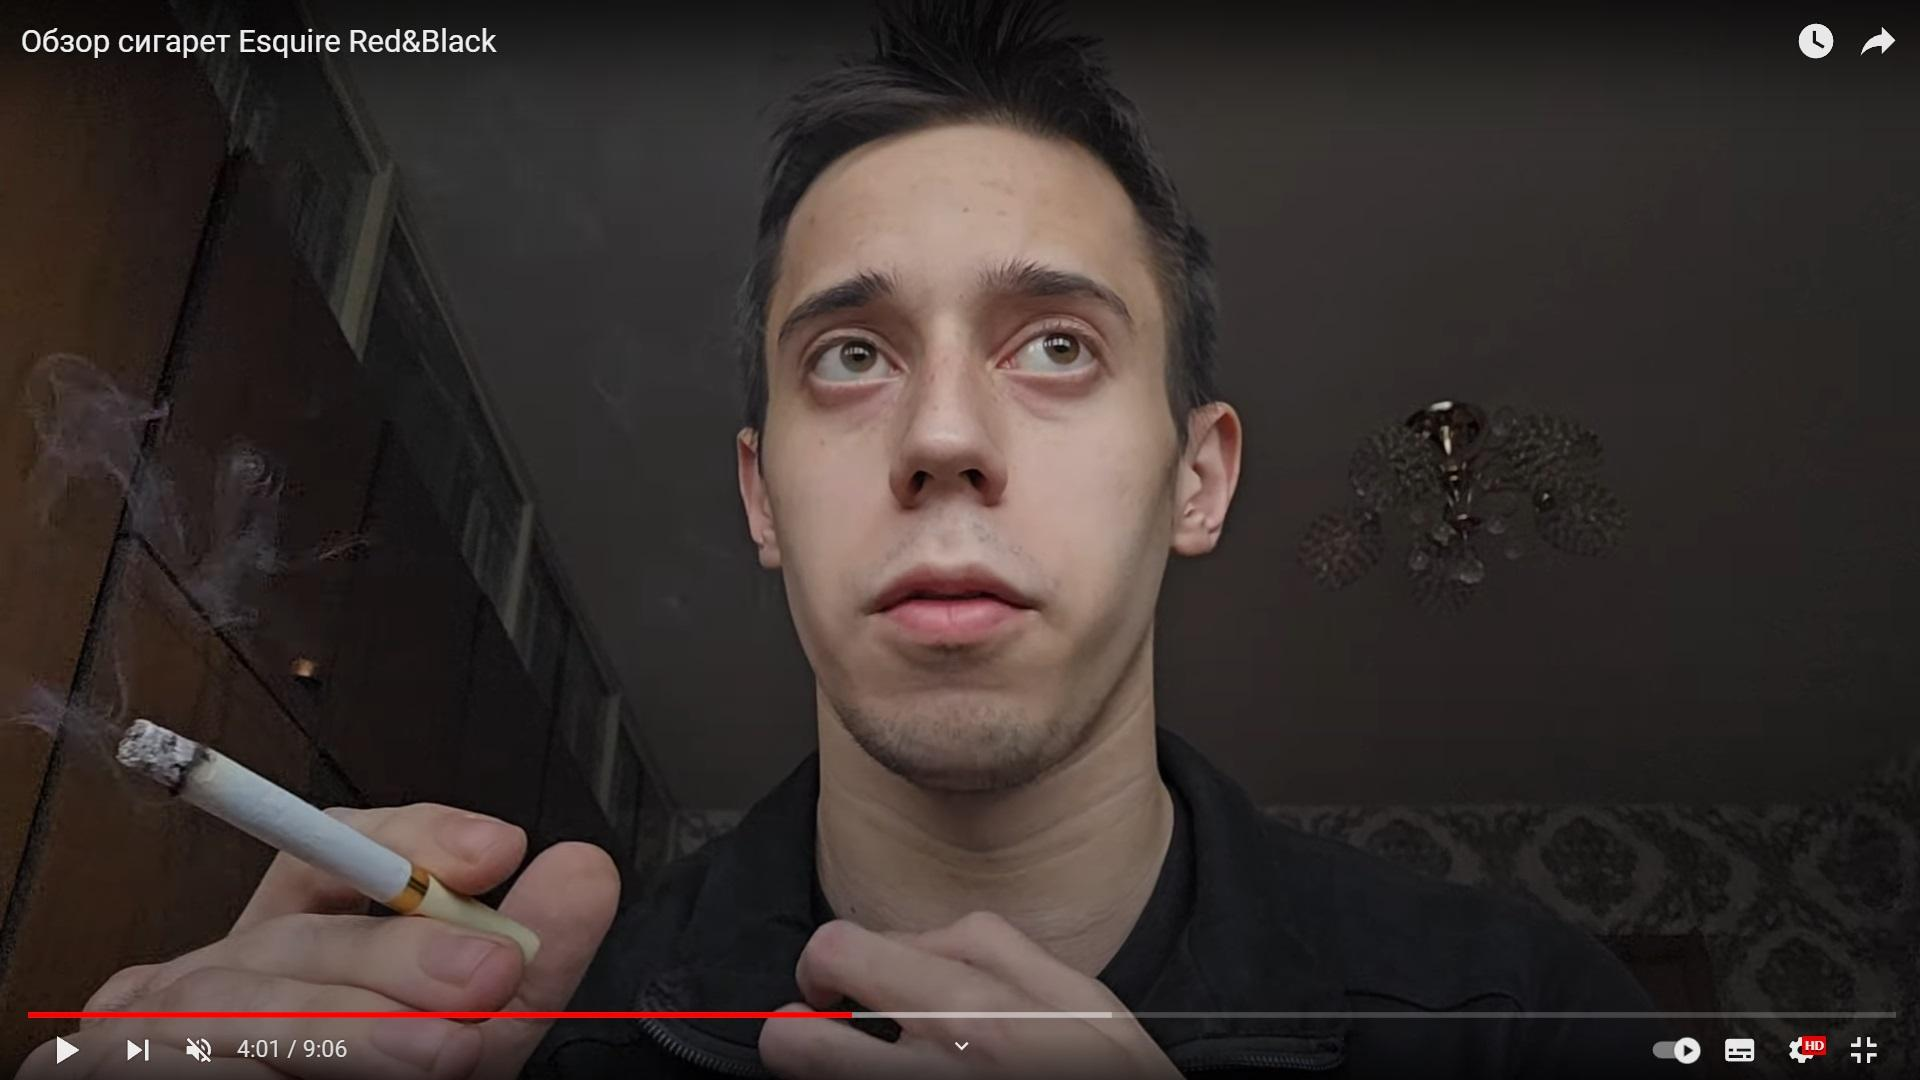cigarette: (116, 717, 543, 967)
